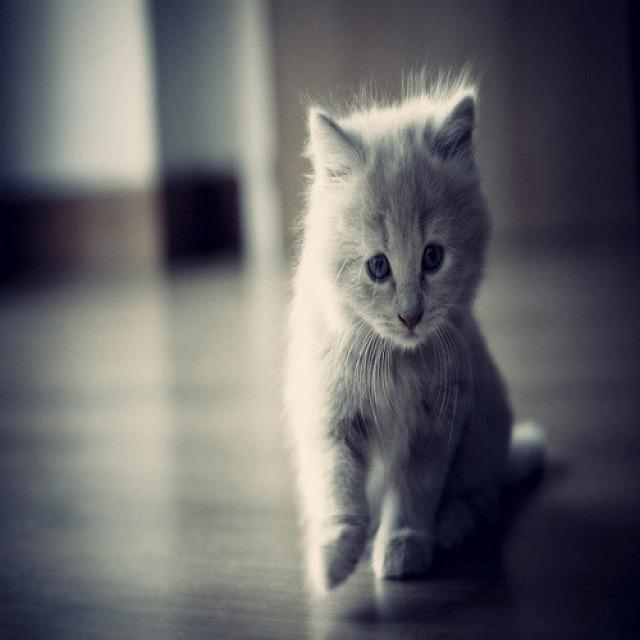cat: (270, 66, 578, 599)
